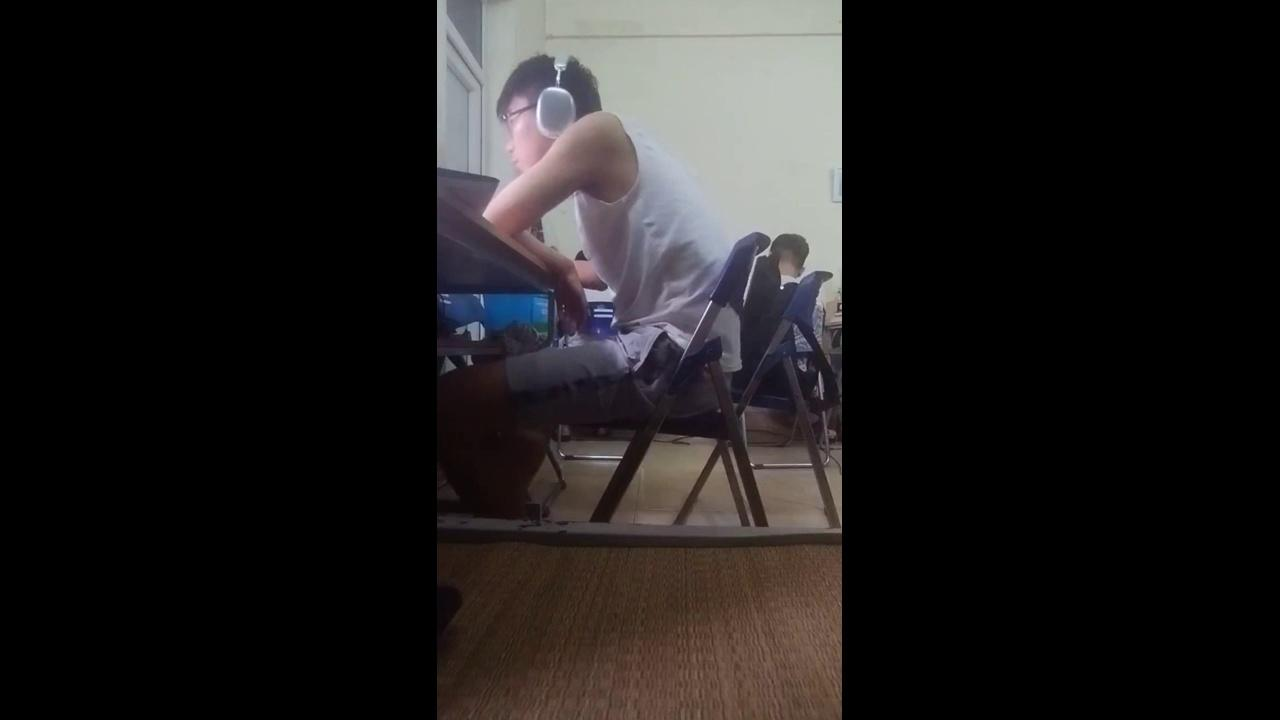BadPosture: (435, 58, 756, 504)
